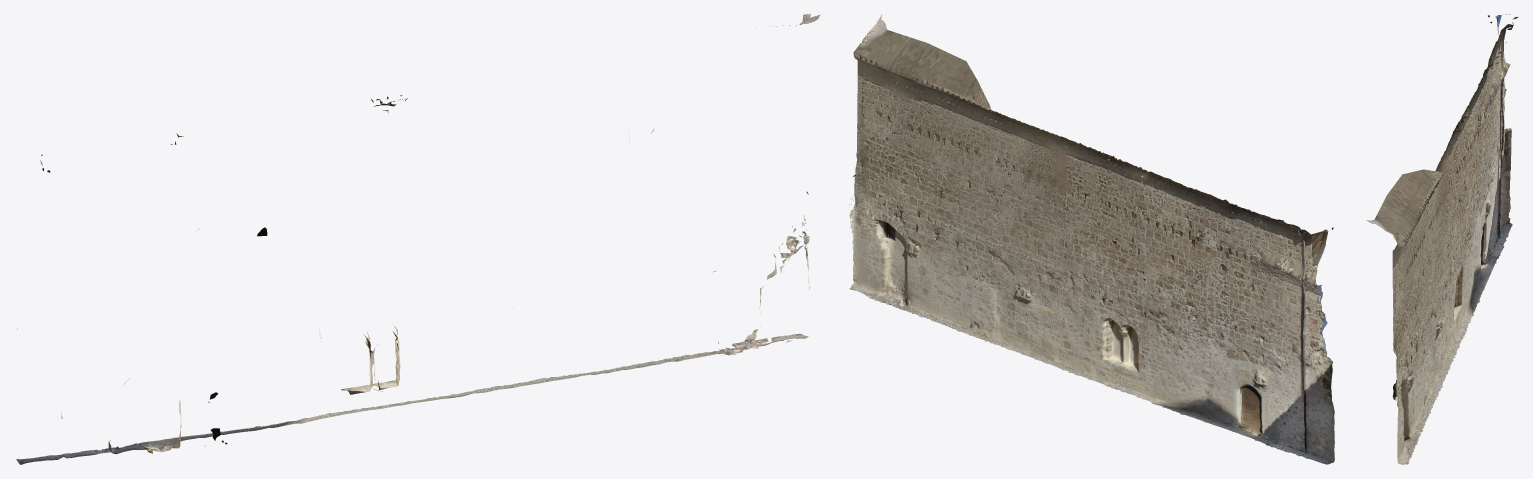
The model's file is medium.glb.
3 renders of one model, left to right at view 1: azimuth 30°, elevation 25°; view 2: azimuth 150°, elevation 25°; view 3: azimuth 270°, elevation 25°, orthographic. The views are drawn at different scales.
Visible parts, largest first — view 1: medium.014; view 2: medium.014; view 3: medium.014.
Part boxes in pixels (box(x1,y1,x2,y2)): medium.014: box(16, 14, 820, 464); medium.014: box(849, 14, 1334, 464); medium.014: box(1366, 14, 1518, 464).
Bounding box in the file's own units: 21.92 × 10.44 × 5.85.
Materials: 1 (1 with a texture image).
